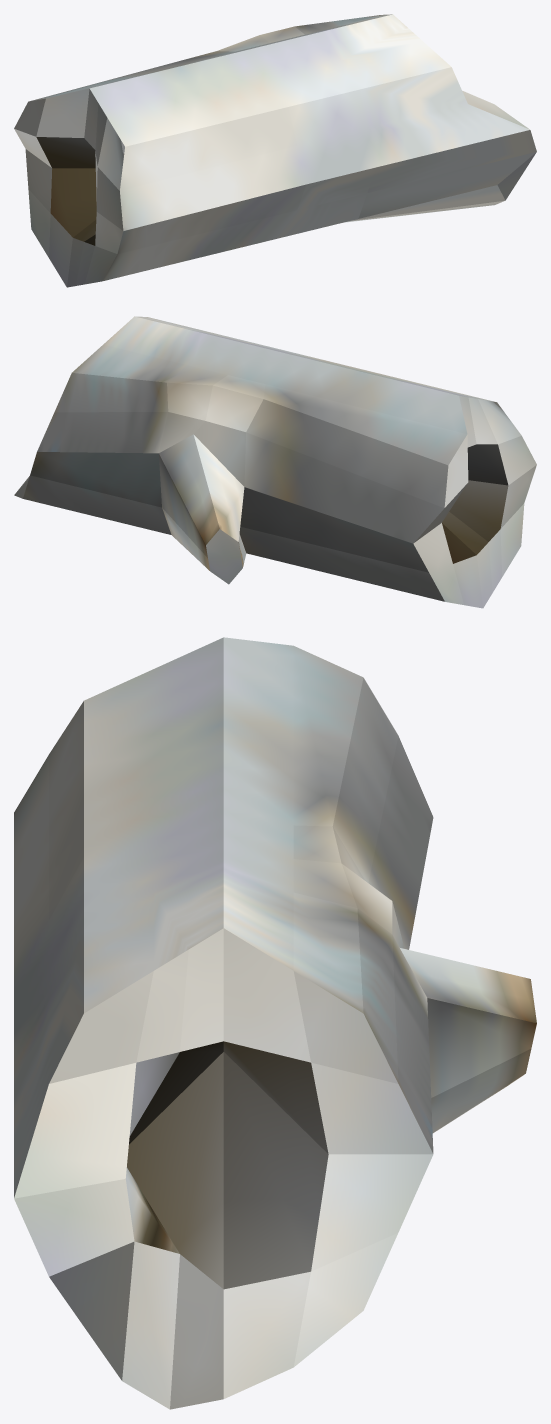
The model's file is Poly_Log_02_Snow.obj.
3 views of the same model, one above another, from view 1: azimuth 30°, elevation 25°; view 2: azimuth 150°, elevation 25°; view 3: azimuth 270°, elevation 25° (orthographic). The views are drawn at different scales.
Parts seen in each view (by area): view 1: Cube; view 2: Cube; view 3: Cube.
Part boxes in pixels (x1=…): Cube: x1=14, y1=14, x2=536, y2=287; Cube: x1=14, y1=316, x2=536, y2=608; Cube: x1=14, y1=637, x2=536, y2=1409.
Size of the model in its own units: 1.41 by 0.6266 by 0.7481.
1 material, 1 textured.
